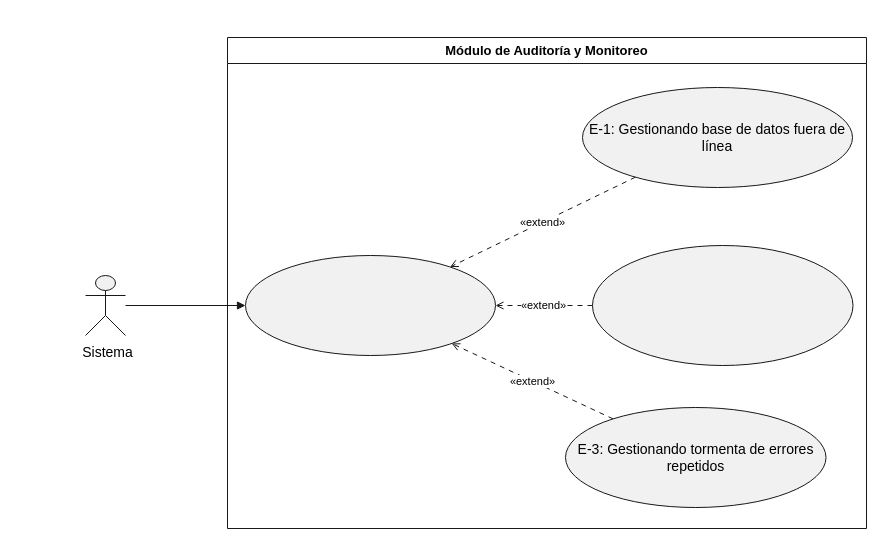
The diagram is 884 pixels wide and 546 high, and some of its shapes have lost their labels. Each missing label, with the centre of its shape:
CU-43: Auditando técnicamente los fallos de aplicación: (x=370, y=305)
E-2: Gestionando falla el envío de la notificación: (x=722, y=305)
